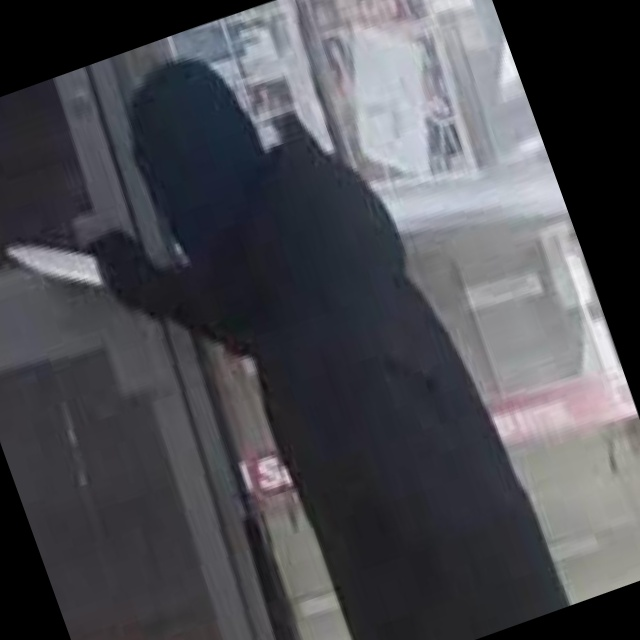gun: (0, 186, 158, 342)
